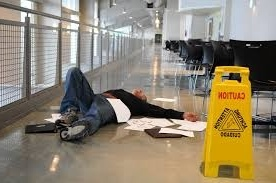fall: (55, 64, 198, 150)
